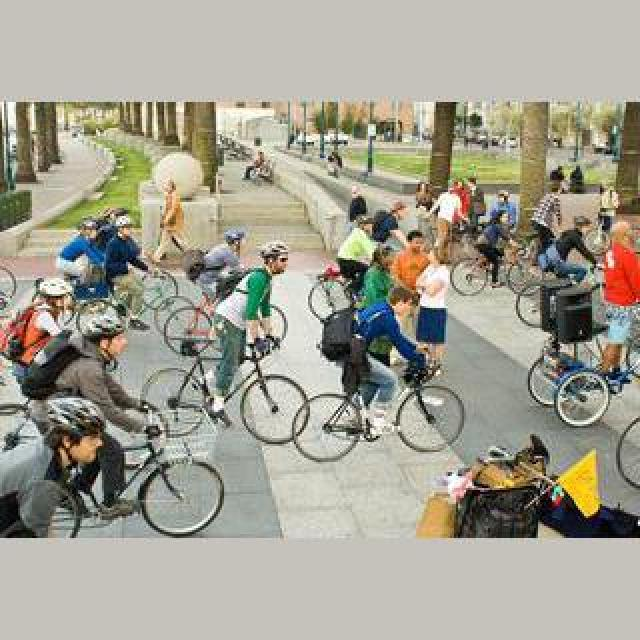MC-Bike: (40, 302, 168, 512), (206, 242, 292, 410), (350, 274, 432, 440), (598, 220, 640, 390), (14, 276, 76, 368), (104, 216, 152, 326), (412, 242, 450, 374), (56, 218, 108, 294), (152, 180, 190, 268)
Person: (48, 414, 226, 538), (144, 320, 310, 446), (294, 358, 464, 462), (162, 280, 284, 354), (452, 238, 536, 296)
